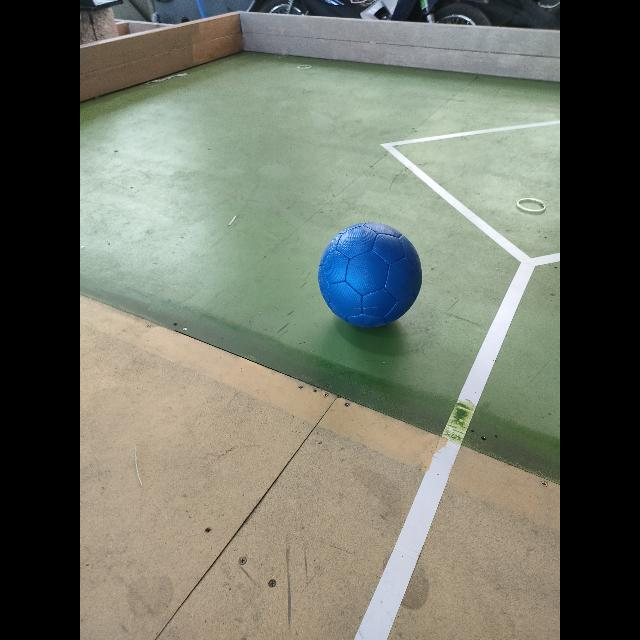B: (318, 224, 422, 326)
